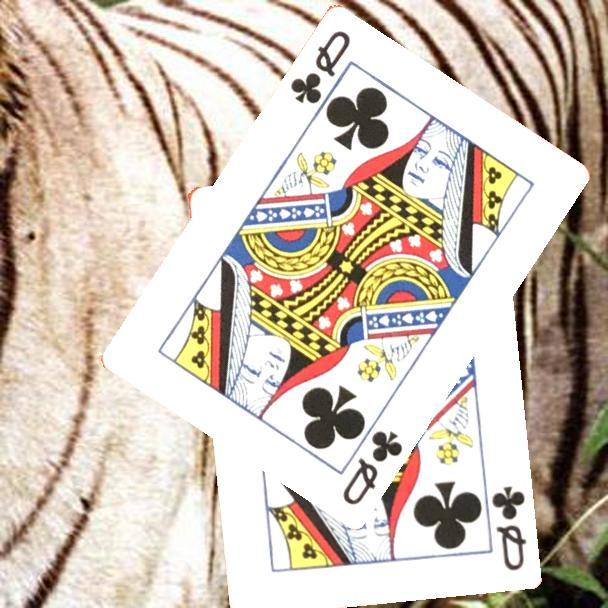c12: (338, 426, 406, 508), (286, 26, 354, 107), (487, 482, 529, 573)
